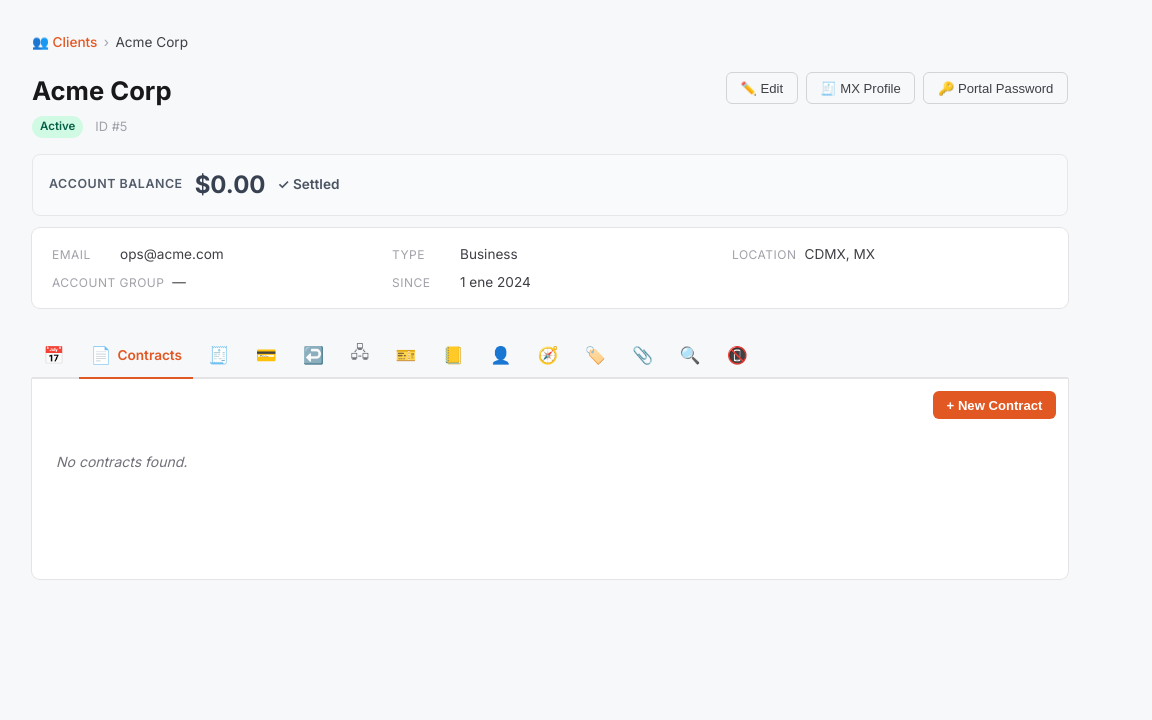
Scenario: ClientDetail page › Credit Notes tab lists the client credit notes and opens the pinned create modal
Check: the heading "Acme Corp" is shown, box [32, 72, 172, 111]
Click the button named "Credit Notes". click: click(314, 356)
box: [292, 332, 335, 379]
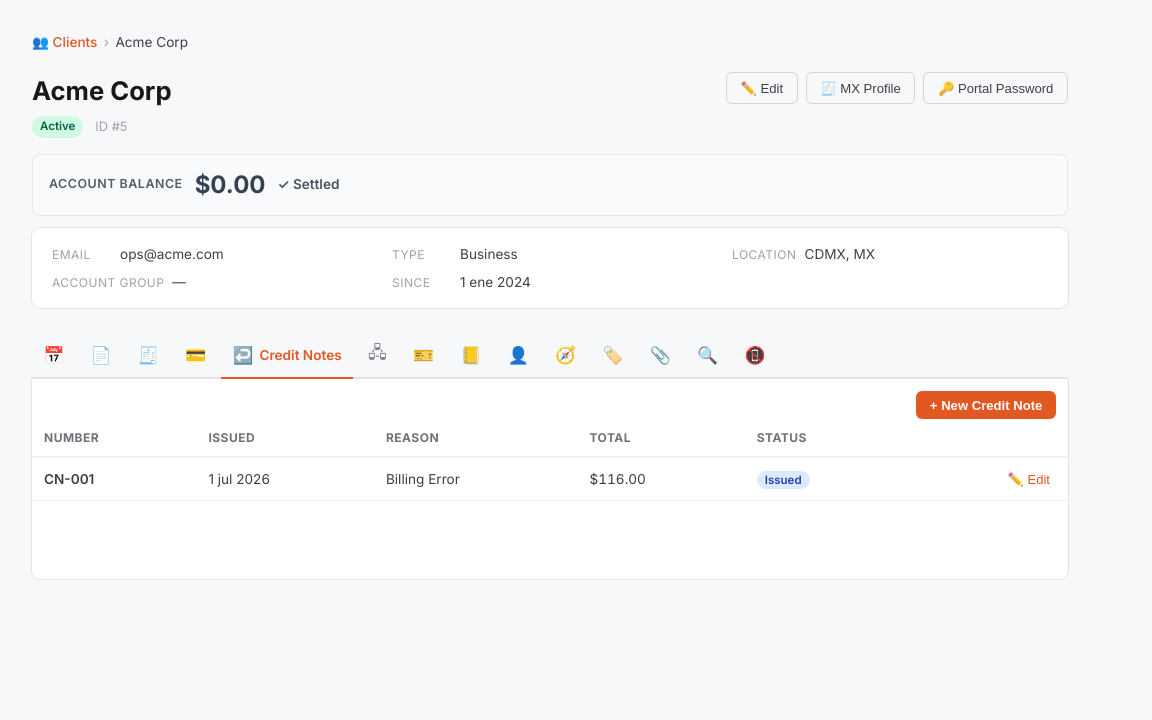
Check: the text "CN-001" is shown, box [32, 457, 196, 500]
Check: the text "Billing Error" is shown, box [374, 457, 577, 500]
Create modal opens locked to this client.
Click the button "+ New Credit Note". click: click(986, 405)
box: [916, 391, 1056, 419]
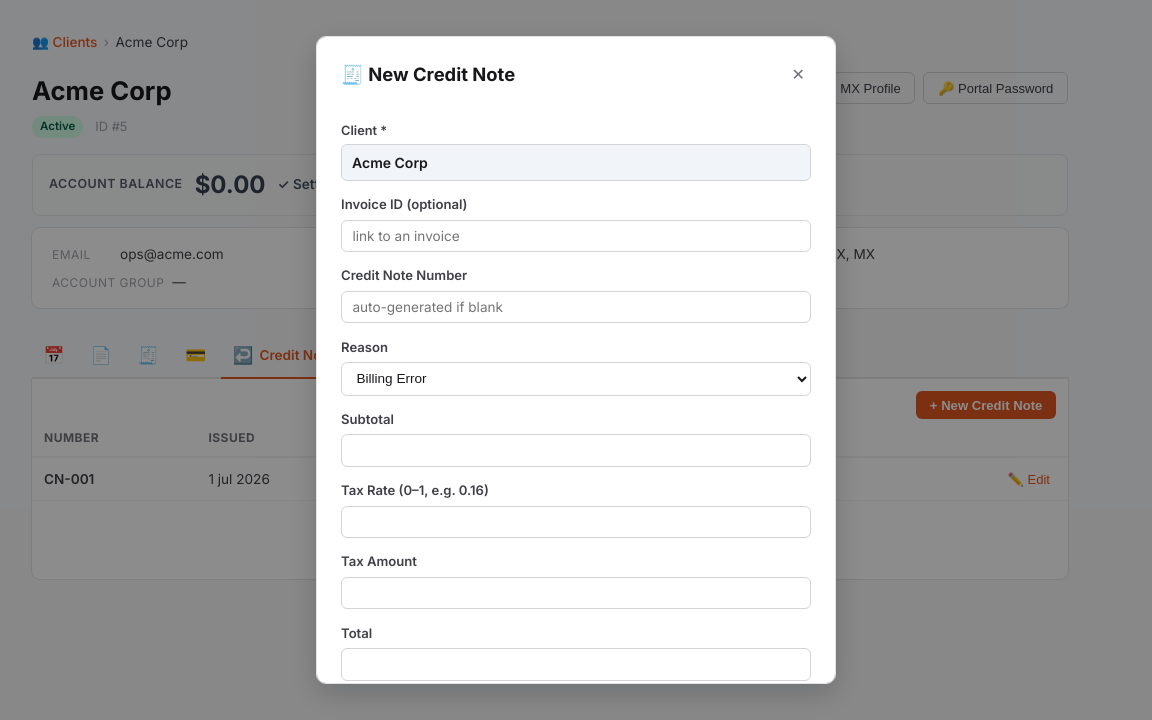
Check: the dialog "New Credit Note" is shown, box [316, 36, 836, 684]
Check: the text "Acme Corp" is shown, box [352, 154, 428, 171]
